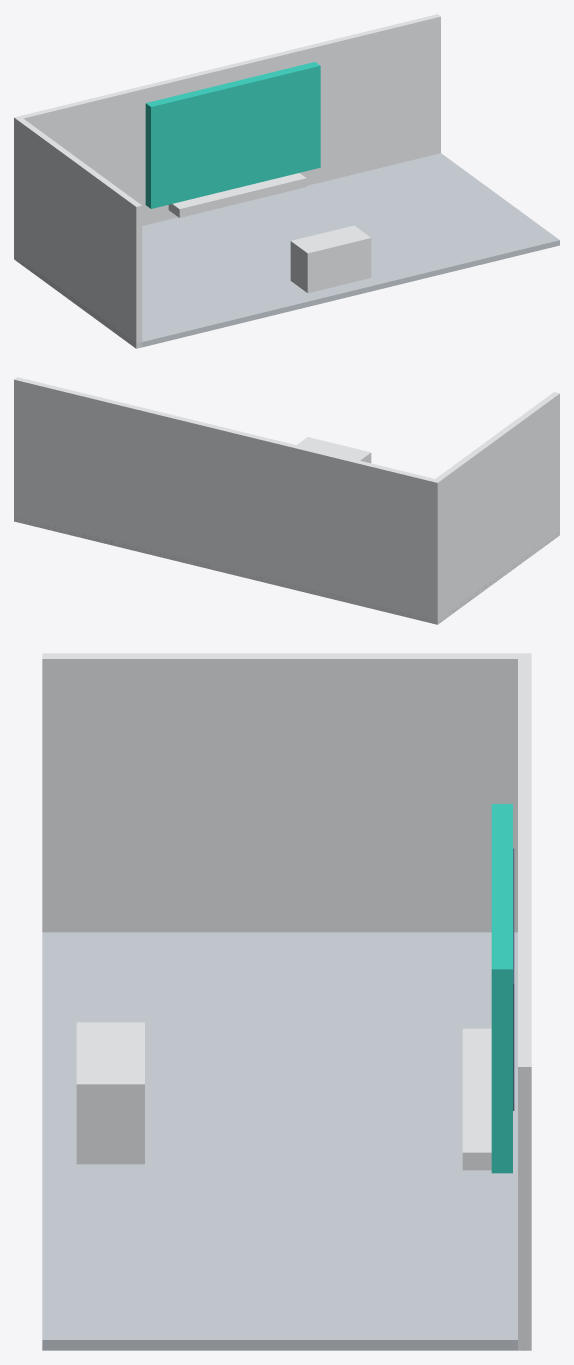
The picture shows the model from 3 angles, top to bottom: view 1: azimuth 30°, elevation 25°; view 2: azimuth 150°, elevation 25°; view 3: azimuth 270°, elevation 25°; orthographic projection. The views are drawn at different scales.
Visible parts, largest first — view 1: Exhibition Booth Concept; view 2: Exhibition Booth Concept; view 3: Exhibition Booth Concept.
Part boxes in pixels (<box>): Exhibition Booth Concept: <box>14,14,559,348</box>; Exhibition Booth Concept: <box>14,377,559,624</box>; Exhibition Booth Concept: <box>42,653,531,1350</box>.
Size of the model in its own units: 10 by 3.2 by 5.
